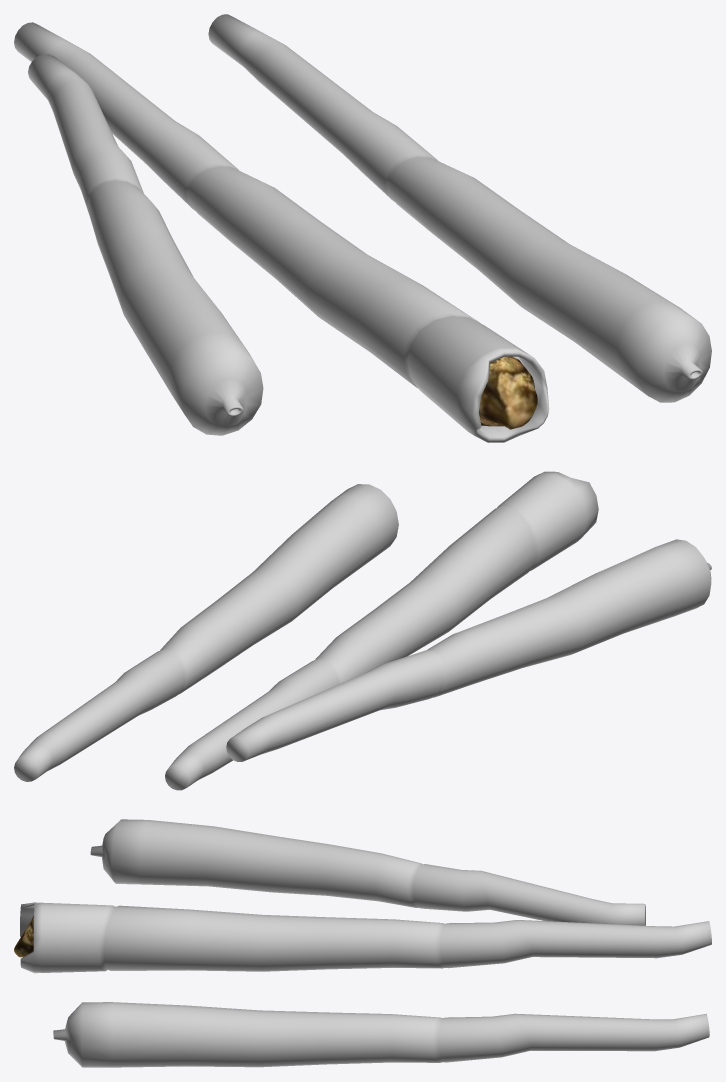
File: Rokok.fbx
The picture shows the model from 3 angles, top to bottom: view 1: azimuth 30°, elevation 25°; view 2: azimuth 150°, elevation 25°; view 3: azimuth 270°, elevation 25°; orthographic projection. The views are drawn at different scales.
Parts seen in each view (by area): view 1: rokok, rokok.001, rokok.002; view 2: rokok.002, rokok, rokok.001; view 3: rokok, rokok.001, rokok.002.
Part boxes in pixels (bbox=[...]): rokok: bbox=[14, 22, 549, 442]; rokok.001: bbox=[208, 14, 711, 402]; rokok.002: bbox=[28, 54, 263, 435]; rokok.002: bbox=[226, 539, 711, 761]; rokok: bbox=[165, 471, 598, 790]; rokok.001: bbox=[14, 484, 398, 781]; rokok: bbox=[14, 902, 711, 973]; rokok.001: bbox=[53, 1002, 709, 1067]; rokok.002: bbox=[90, 819, 645, 925].
Size of the model in its own units: 136 by 36.41 by 233.
